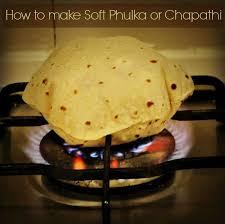roti phulka: (30, 41, 198, 151)
